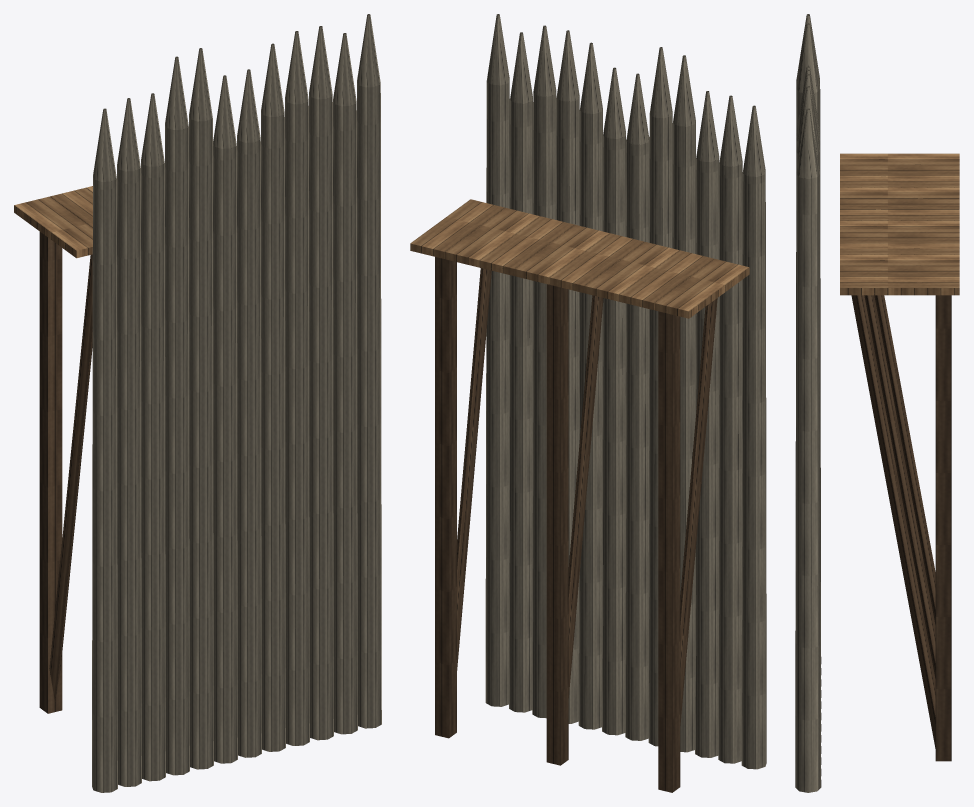
File: Palisade_Rampart_1.gltf
3 views of the same model, side by side, from view 1: azimuth 30°, elevation 25°; view 2: azimuth 150°, elevation 25°; view 3: azimuth 270°, elevation 25° (orthographic). The views are drawn at different scales.
Parts seen in each view (by area): view 1: Palisade_Rampart_1; view 2: Palisade_Rampart_1; view 3: Palisade_Rampart_1.
Boxes of the visible parts, <box> form: Palisade_Rampart_1: <box>14,14,381,792</box>; Palisade_Rampart_1: <box>410,14,766,792</box>; Palisade_Rampart_1: <box>795,14,959,792</box>.
Size of the model in its own units: 3.99 by 9.5 by 2.06.
3 materials, 3 textured.
